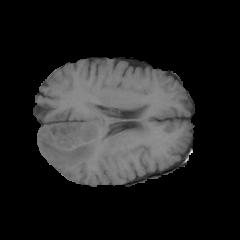glioma: (41, 122, 101, 166)
